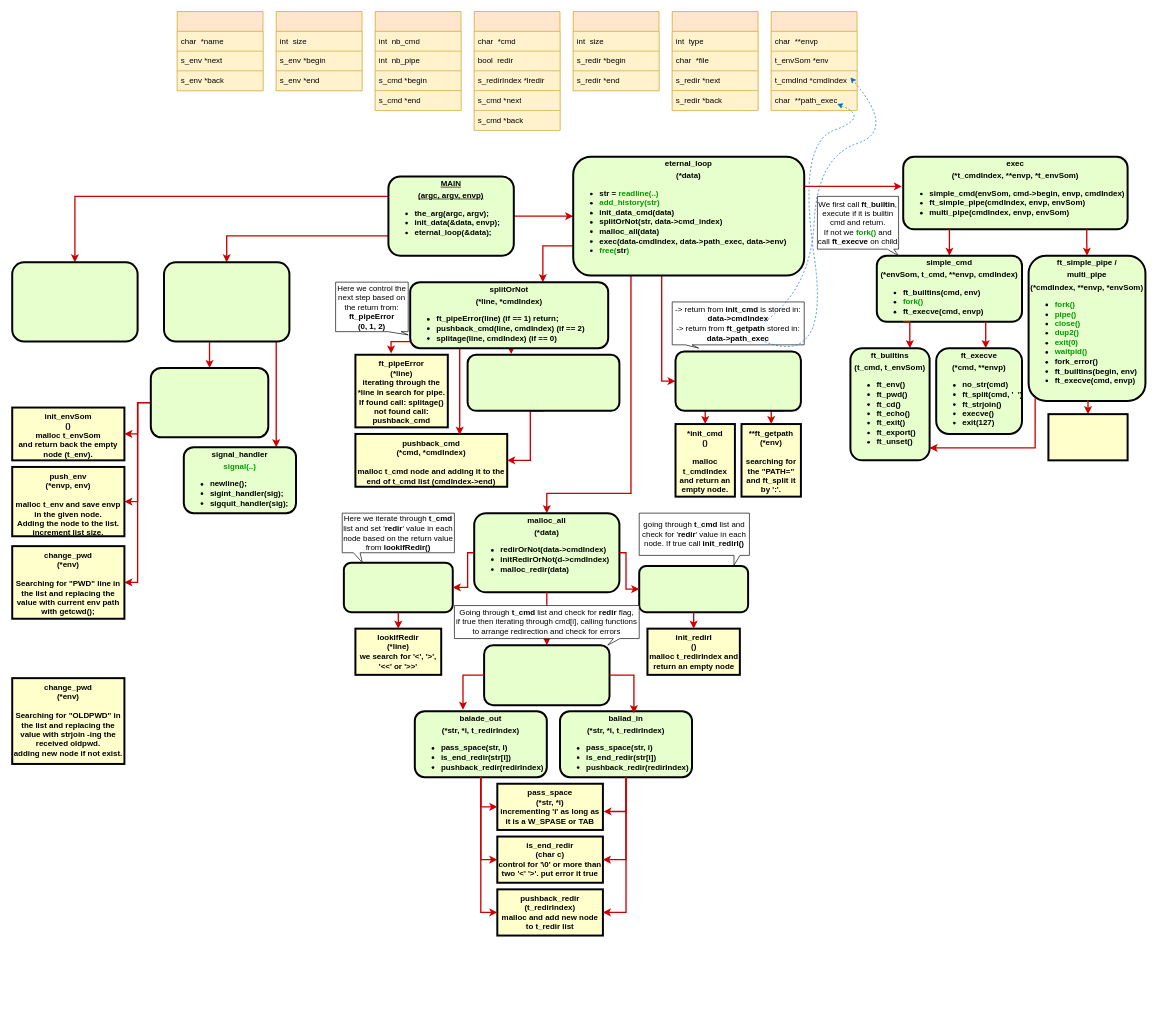
Image size: 1158x1010. Some labels were removed from this diagram. The box of each missing label's shape, as (x1, y1, x2, y2) in pixels:
fork_error () Here we open fork() and return its pid: (1047, 413, 1128, 461)
init_data (*data, **en) printTitle(); init_envp(en); signal_handler();: (163, 261, 290, 342)
init_data_cmd (*data) init_cmd() ft_getpath(data->env);: (674, 350, 802, 412)
init_envp (*envp) init_envSom(); push_env(envp[i], env); change_pwd(env);: (149, 367, 269, 438)
initRedirOrNot (*index) init_redirI(): (638, 565, 749, 613)
malloc_redir (*data) balade_out(cmd, i, lredir) ballad_in(cmd, i, lredir): (483, 644, 610, 706)
redirOrNot (*index) lookIfRedir(cmd): (343, 561, 453, 613)
splitage (*line, cmdIndex) ft_split(line, '|') pushback_cmd(line[i], cmdIndex): (466, 353, 620, 412)
t_cmd: (474, 11, 560, 130)
t_cmdIndex: (375, 11, 461, 111)
t_data: (771, 11, 857, 111)
t_env: (177, 11, 263, 91)
t_envSom: (276, 11, 362, 91)
t_redir: (672, 11, 758, 111)
t_redirIndex: (573, 11, 659, 91)
the_arg (argc, argv) Arguments check: (11, 261, 138, 342)
